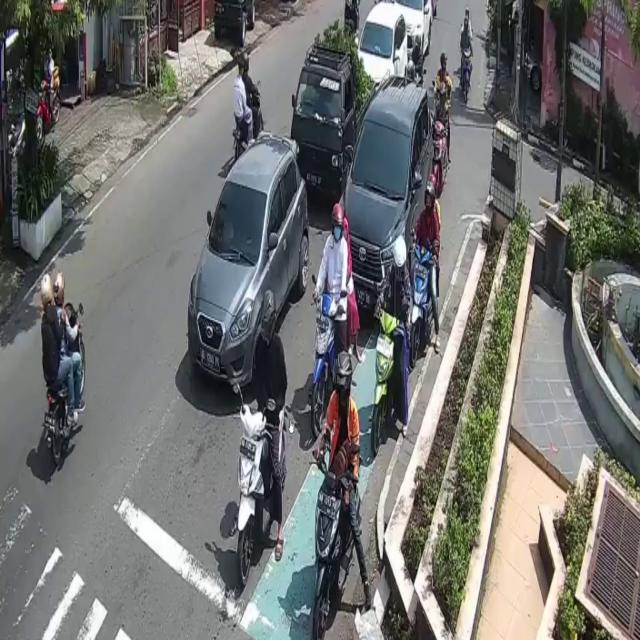car: (188, 131, 308, 393), (341, 77, 434, 322), (290, 42, 376, 200), (358, 0, 409, 84), (400, 0, 434, 64)
motorbike: (234, 390, 290, 583), (313, 458, 360, 640), (45, 301, 86, 466), (371, 306, 399, 452), (314, 292, 343, 430), (410, 243, 433, 361), (233, 83, 264, 146), (458, 44, 473, 106)
